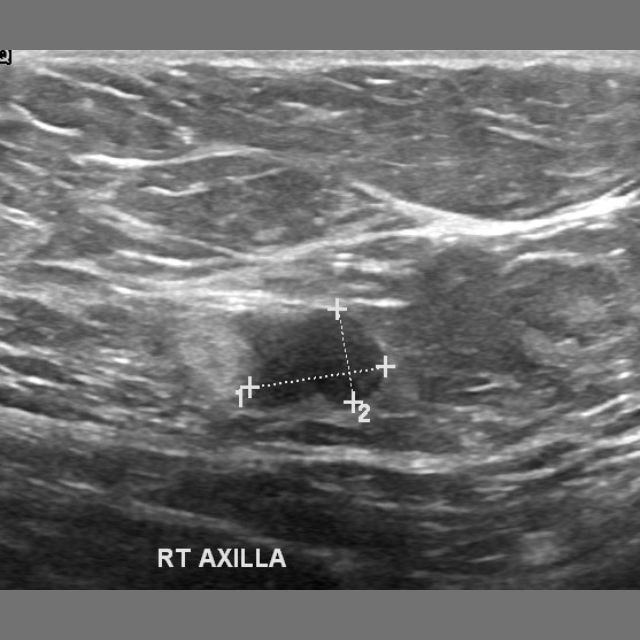cancer: (229, 277, 407, 448)
